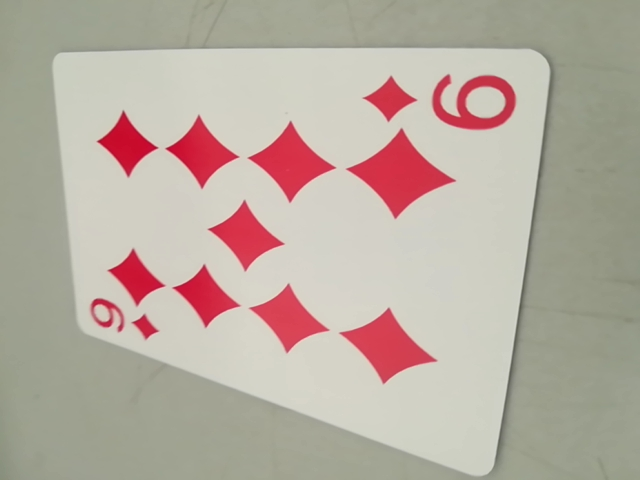fk 9: (360, 66, 519, 138), (81, 294, 166, 347)
